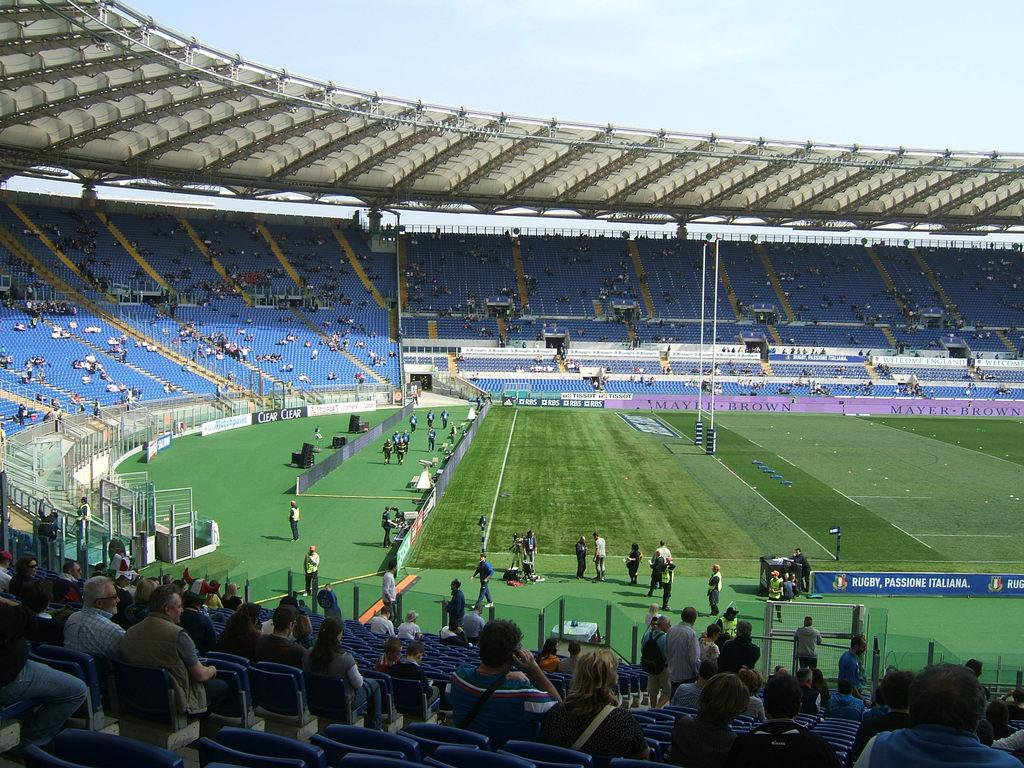Chair: (0, 568, 1023, 767), (0, 203, 401, 442), (406, 228, 1023, 355), (405, 362, 1023, 395), (246, 661, 321, 745)
